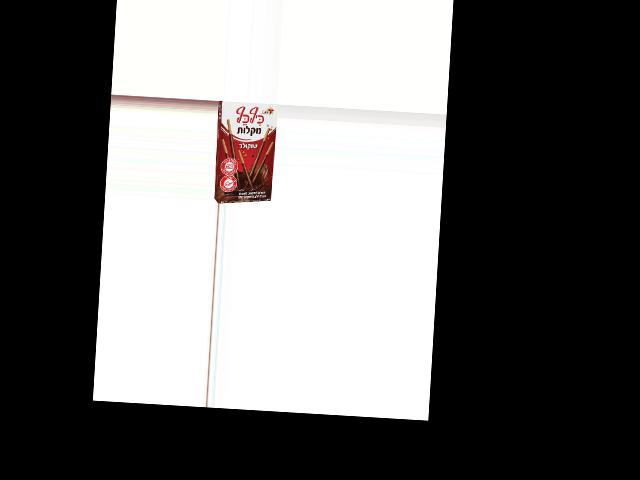chocolate: (213, 101, 278, 199)
